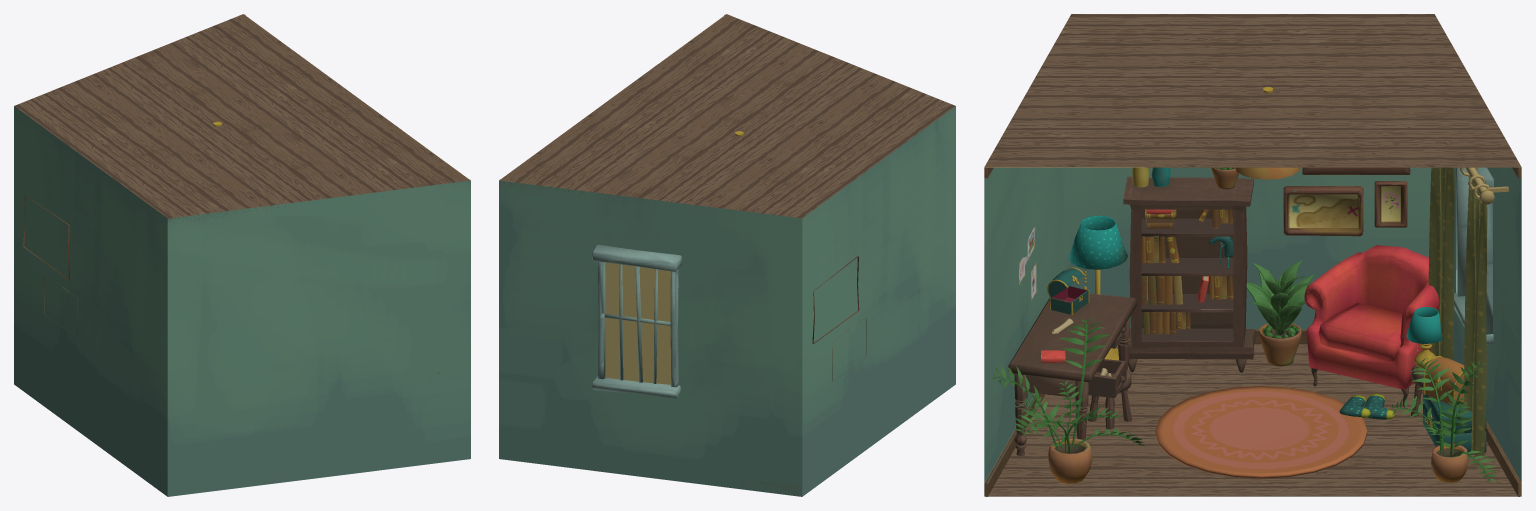
3 renders of one model, left to right at view 1: azimuth 30°, elevation 25°; view 2: azimuth 150°, elevation 25°; view 3: azimuth 270°, elevation 25°, orthographic. The views are drawn at different scales.
Visible parts, largest first — view 1: Cube.006; view 2: Cube.006; view 3: Cube.006, Cylinder, Cylinder.004, Cylinder.008, Snake Plant.003, Cylinder.001, prop_book_03_inst_002.001, prop_book_03_inst_002.070, prop_book_03_inst_002.053, prop_book_03_inst_002.036, prop_book_03_inst_002.007, prop_book_03_inst_002.052 (+3 smaller).
Boxes of the visible parts, <box> form: Cube.006: <box>14,14,470,496</box>; Cube.006: <box>499,14,955,496</box>; Cube.006: <box>984,14,1521,496</box>; Cylinder: <box>1008,176,1439,455</box>; Cylinder.004: <box>1155,167,1508,478</box>; Cylinder.008: <box>991,317,1144,483</box>; Snake Plant.003: <box>1211,167,1313,366</box>; Cylinder.001: <box>1387,358,1496,482</box>; prop_book_03_inst_002.001: <box>1283,186,1363,236</box>; prop_book_03_inst_002.070: <box>1069,215,1127,269</box>; prop_book_03_inst_002.053: <box>1374,181,1407,227</box>; prop_book_03_inst_002.036: <box>1423,394,1486,454</box>; prop_book_03_inst_002.007: <box>1406,307,1442,343</box>; prop_book_03_inst_002.052: <box>1302,167,1410,174</box>.
Size of the model in its own units: 463 by 445 by 651.
